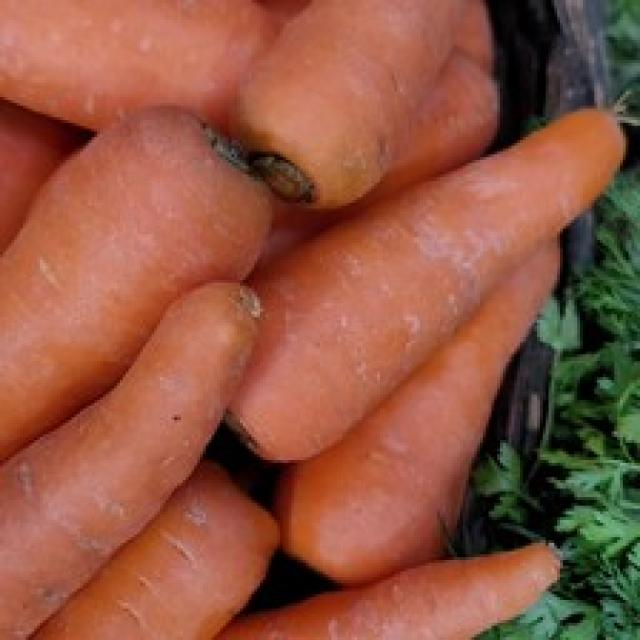Fresh_Carrot: (234, 118, 625, 419), (0, 302, 249, 571), (0, 138, 253, 382), (231, 1, 472, 195), (0, 4, 254, 142), (243, 541, 545, 640), (92, 486, 265, 640)
